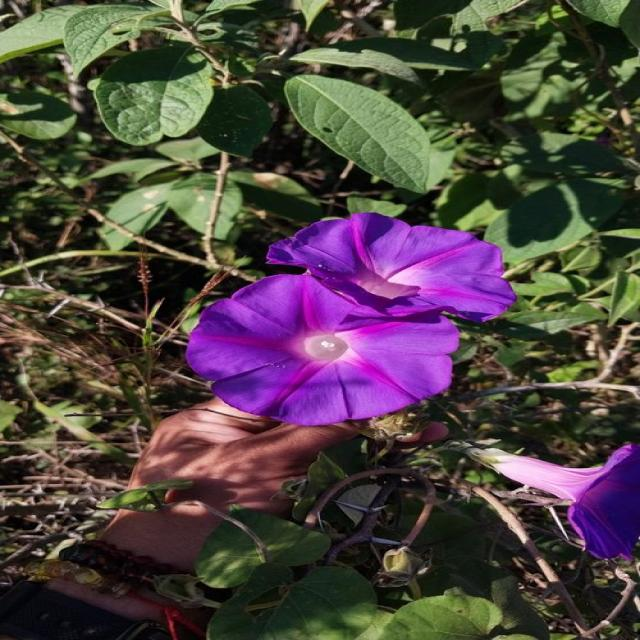ipomoea: (179, 210, 520, 428), (462, 441, 638, 563)
